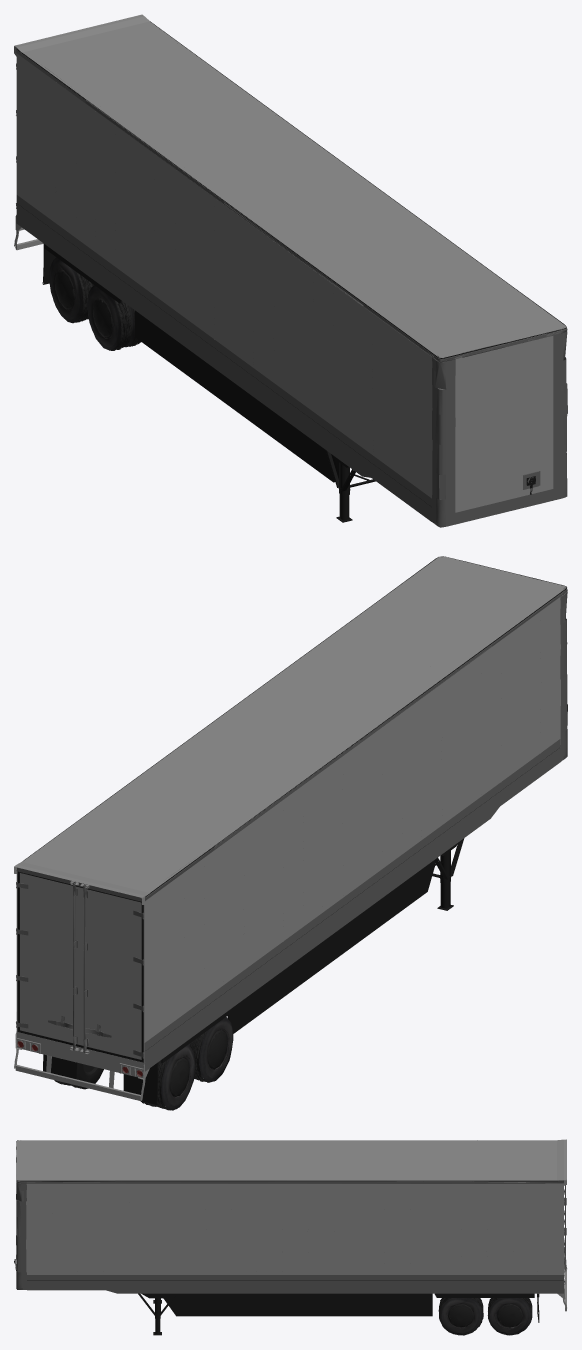
The model's file is trailer_dryvan.glb.
The picture shows the model from 3 angles, top to bottom: view 1: azimuth 30°, elevation 25°; view 2: azimuth 150°, elevation 25°; view 3: azimuth 270°, elevation 25°; orthographic projection. The views are drawn at different scales.
Parts seen in each view (by area): view 1: Trailer, LandingGear; view 2: Trailer, LandingGear; view 3: Trailer, LandingGear.
Boxes of the visible parts, box(x1,y1,x2,y2) form: Trailer: box(14, 14, 567, 527); LandingGear: box(326, 450, 375, 522); Trailer: box(14, 556, 567, 1110); LandingGear: box(432, 850, 453, 910); Trailer: box(14, 1139, 567, 1335); LandingGear: box(153, 1293, 177, 1335).
Bounding box in the file's own units: 2.41 × 4.35 × 13.75.
Materials: 9 (2 with a texture image).
